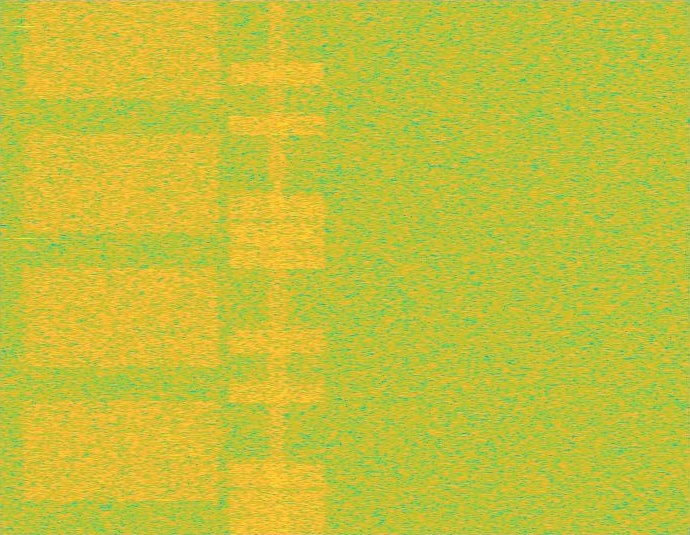5G: (18, 0, 225, 534)
DSSS: (266, 0, 289, 534)
LTE: (226, 0, 329, 534)
Radar: (18, 0, 32, 534)
